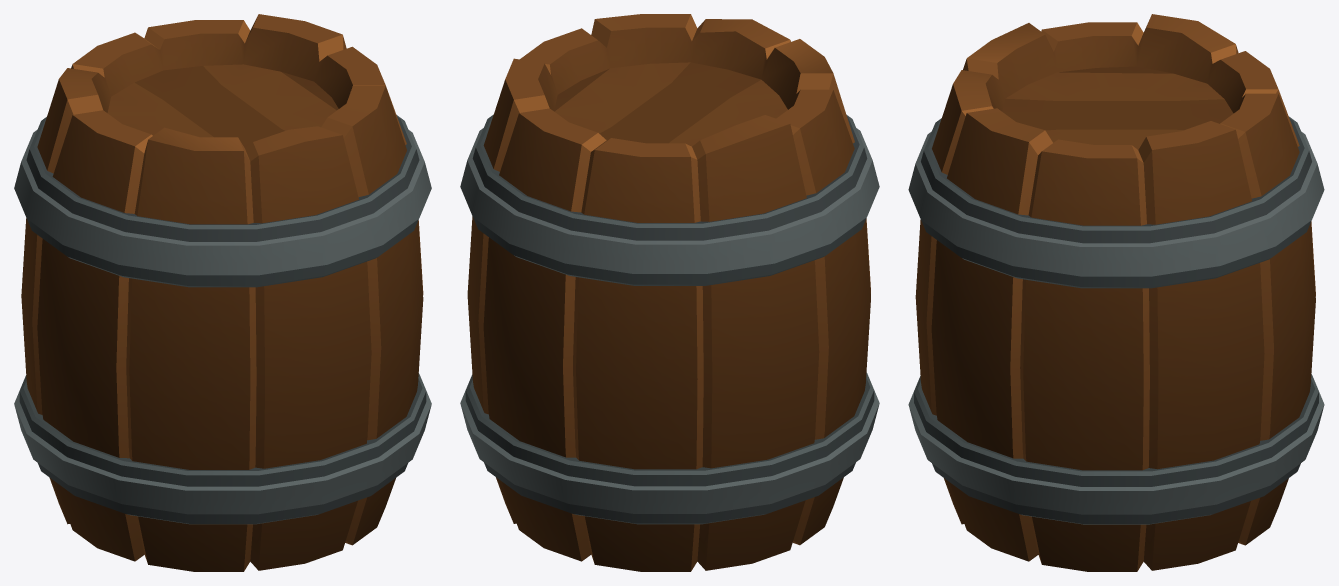
Rendered from Barrel-3.fbx.
3 renders of one model, left to right at view 1: azimuth 30°, elevation 25°; view 2: azimuth 150°, elevation 25°; view 3: azimuth 270°, elevation 25°, orthographic.
Parts seen in each view (by area): view 1: Barrel-3; view 2: Barrel-3; view 3: Barrel-3.
Part boxes in pixels (x1,y1,x2,y2): Barrel-3: [14, 14, 431, 571]; Barrel-3: [460, 14, 879, 571]; Barrel-3: [908, 14, 1324, 571].
Bounding box in the file's own units: 120 × 137 × 122.
